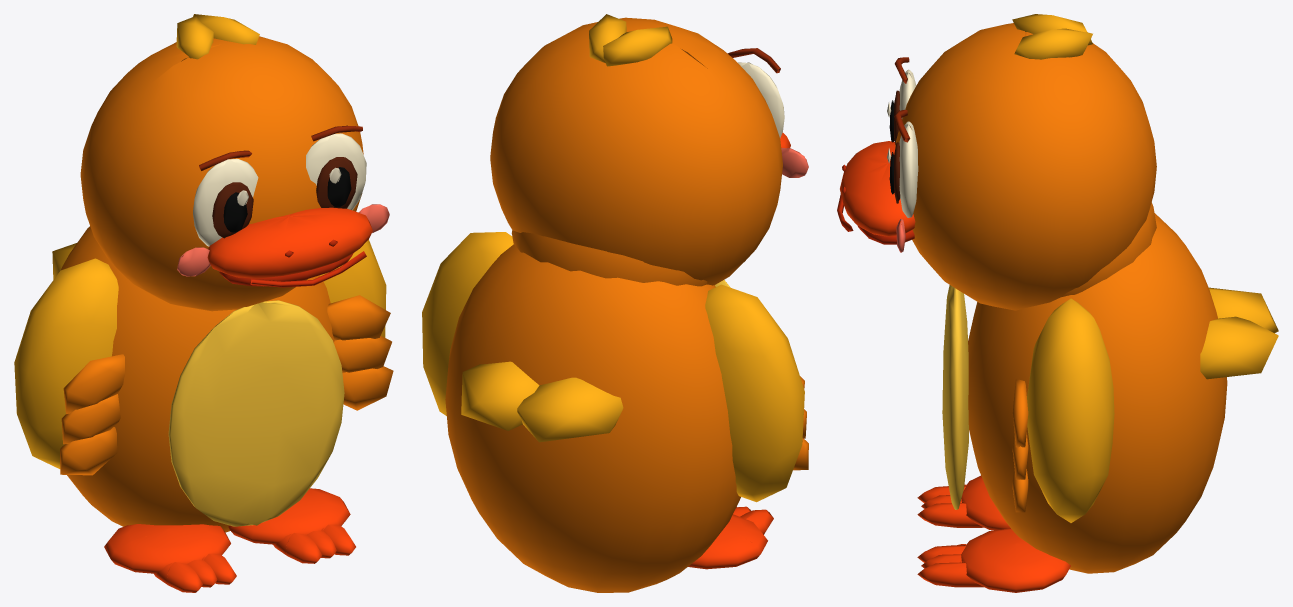
The model's file is duck.glb.
3 renders of one model, left to right at view 1: azimuth 30°, elevation 25°; view 2: azimuth 150°, elevation 25°; view 3: azimuth 270°, elevation 25°, orthographic. The views are drawn at different scales.
Parts seen in each view (by area): view 1: duck; view 2: duck; view 3: duck.
Part boxes in pixels (bbox=[...]): duck: bbox=[14, 14, 393, 592]; duck: bbox=[422, 14, 808, 592]; duck: bbox=[837, 14, 1278, 592].
Size of the model in its own units: 0.7258 by 1 by 0.7434.
Materials: 1 (1 with a texture image).
